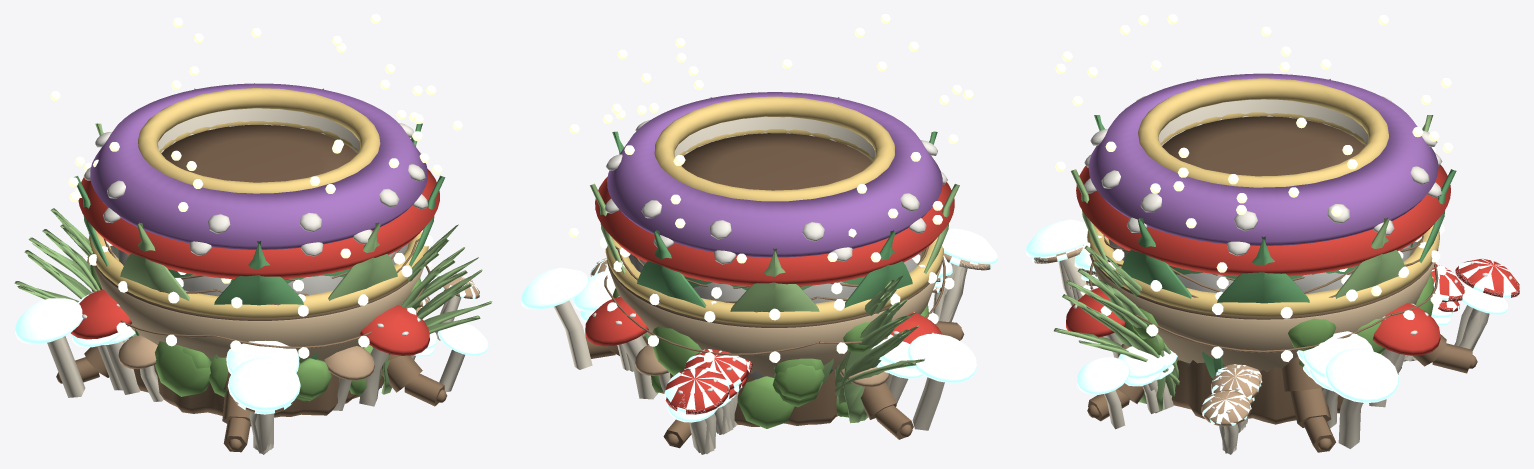
The model's file is chau-rung-nam.glb.
3 renders of one model, left to right at view 1: azimuth 30°, elevation 25°; view 2: azimuth 150°, elevation 25°; view 3: azimuth 270°, elevation 25°, orthographic. The views are drawn at different scales.
Visible parts, largest first — view 1: ChauNam_4_Than, ChauNam_6_Than, ChauNam_4_Lv6, ChauNam_1_Than, ChauNam_2_Lv6, ChauNam_4_Dat, ChauNam_5_Than, ChauNam_2_Than, ChauNam_6_Lv6, ChauNam_3_Than, ChauNam_3_Lv6, ChauNam_6_Lv5 (+9 smaller); view 2: ChauNam_4_Than, ChauNam_6_Than, ChauNam_4_Lv6, ChauNam_1_Than, ChauNam_2_Lv6, ChauNam_4_Dat, ChauNam_5_Than, ChauNam_3_Than, ChauNam_6_Lv6, ChauNam_2_Than, ChauNam_2_Lv3, ChauNam_2_Lv5 (+12 smaller); view 3: ChauNam_4_Than, ChauNam_6_Than, ChauNam_4_Lv6, ChauNam_1_Than, ChauNam_2_Lv6, ChauNam_4_Dat, ChauNam_2_Than, ChauNam_5_Than, ChauNam_6_Lv6, ChauNam_3_Than, ChauNam_2_Lv5, ChauNam_3_Lv6 (+11 smaller).
Boxes of the visible parts, left/top/right/bottom form: ChauNam_4_Than: left=90, top=83, right=427, bottom=249; ChauNam_6_Than: left=71, top=265, right=429, bottom=410; ChauNam_4_Lv6: left=52, top=14, right=458, bottom=390; ChauNam_1_Than: left=78, top=151, right=439, bottom=279; ChauNam_2_Lv6: left=15, top=79, right=488, bottom=453; ChauNam_4_Dat: left=161, top=125, right=356, bottom=182; ChauNam_5_Than: left=74, top=88, right=445, bottom=363; ChauNam_2_Than: left=56, top=336, right=447, bottom=452; ChauNam_6_Lv6: left=17, top=162, right=492, bottom=350; ChauNam_3_Than: left=90, top=243, right=408, bottom=396; ChauNam_3_Lv6: left=27, top=66, right=482, bottom=390; ChauNam_6_Lv5: left=16, top=256, right=478, bottom=358; ChauNam_4_Than: left=606, top=92, right=942, bottom=257; ChauNam_6_Than: left=585, top=251, right=942, bottom=403; ChauNam_4_Lv6: left=574, top=14, right=973, bottom=388; ChauNam_1_Than: left=595, top=172, right=954, bottom=286; ChauNam_2_Lv6: left=521, top=38, right=997, bottom=452; ChauNam_4_Dat: left=681, top=133, right=871, bottom=190; ChauNam_5_Than: left=590, top=97, right=959, bottom=384; ChauNam_3_Than: left=628, top=252, right=928, bottom=428; ChauNam_6_Lv6: left=568, top=228, right=953, bottom=398; ChauNam_2_Than: left=585, top=321, right=964, bottom=448; ChauNam_2_Lv3: left=596, top=261, right=955, bottom=453; ChauNam_2_Lv5: left=590, top=254, right=992, bottom=454; ChauNam_4_Than: left=1088, top=73, right=1438, bottom=245; ChauNam_6_Than: left=1066, top=247, right=1440, bottom=407; ChauNam_4_Lv6: left=1055, top=25, right=1453, bottom=413; ChauNam_1_Than: left=1076, top=153, right=1450, bottom=276; ChauNam_2_Lv6: left=1026, top=14, right=1507, bottom=448; ChauNam_4_Dat: left=1162, top=116, right=1364, bottom=176; ChauNam_2_Than: left=1087, top=334, right=1477, bottom=452; ChauNam_5_Than: left=1071, top=79, right=1456, bottom=378; ChauNam_6_Lv6: left=1055, top=147, right=1439, bottom=385; ChauNam_3_Than: left=1108, top=239, right=1433, bottom=366; ChauNam_2_Lv5: left=1032, top=234, right=1519, bottom=454; ChauNam_3_Lv6: left=1081, top=62, right=1450, bottom=428.
Size of the model in its own units: 1.61 by 1.13 by 1.58.
